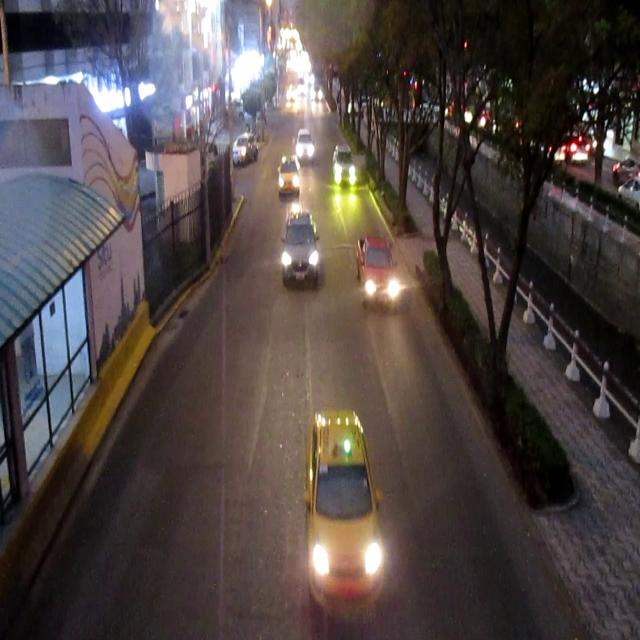CMT: (356, 237, 399, 308)
SED: (309, 412, 383, 597), (278, 157, 299, 195)
SUV: (282, 214, 318, 286), (234, 135, 258, 165)
